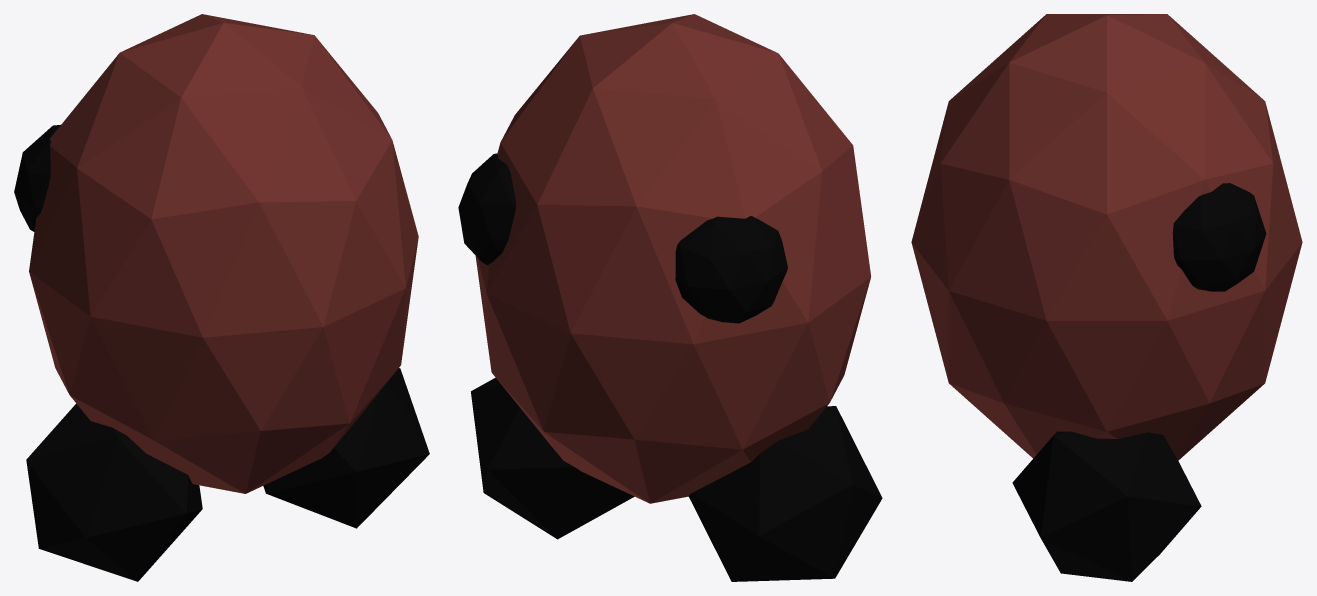
Rendered from explode.f0001.glb.
3 renders of one model, left to right at view 1: azimuth 30°, elevation 25°; view 2: azimuth 150°, elevation 25°; view 3: azimuth 270°, elevation 25°, orthographic. The views are drawn at different scales.
Visible parts, largest first — view 1: Body.001; view 2: Body.001; view 3: Body.001.
Boxes of the visible parts, box(x1,y1,x2,y2) form: Body.001: box(14, 14, 429, 581); Body.001: box(458, 14, 882, 581); Body.001: box(911, 14, 1302, 581).
Size of the model in its own units: 2.17 by 2.85 by 2.
1 material, 1 textured.
